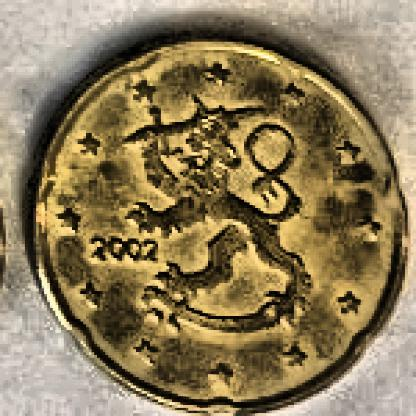coin: (34, 37, 406, 412)
